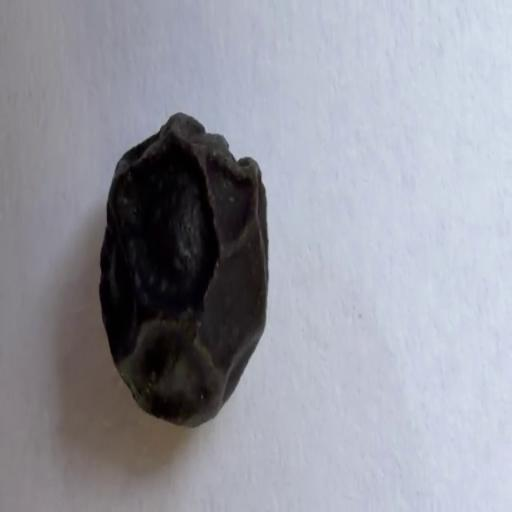Black_pepper: (99, 86, 269, 446)
